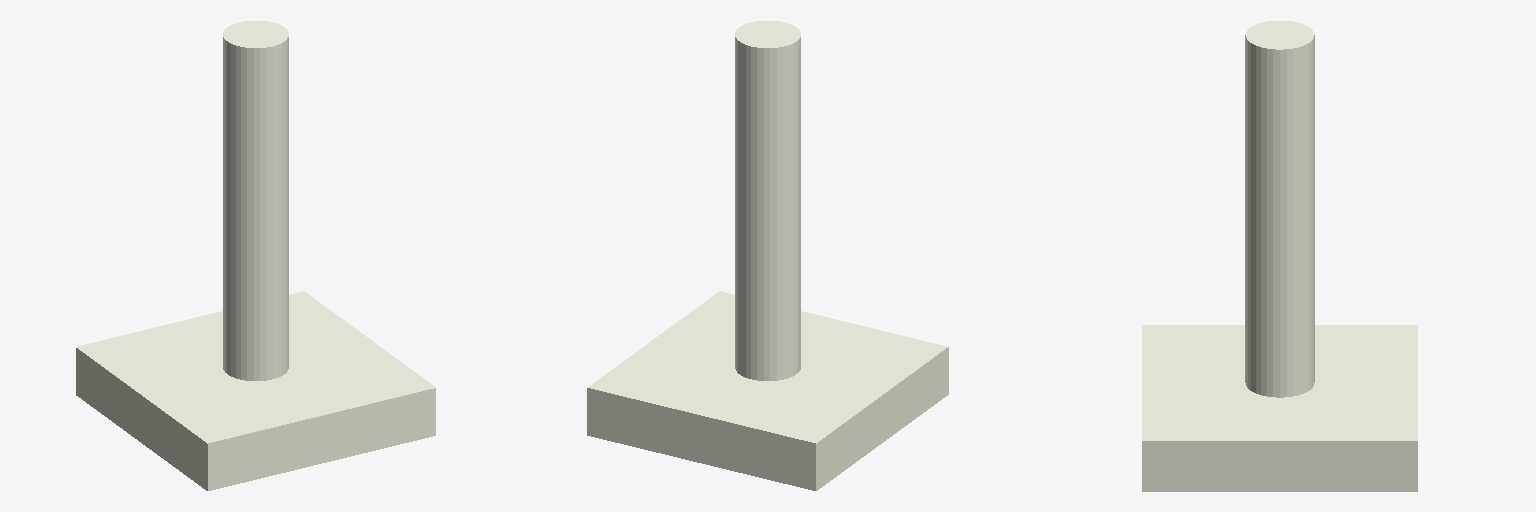
URDF robot description (table.urdf):
<?xml version="1.0" ?>
<robot name="table.urdf">
  <material name="Black">
    <color rgba="0.0 0.0 0.0 1.0"/>
  </material>
  <material name="Blue">
    <color rgba="0.0 0.0 0.8 1.0"/>
  </material>
  <material name="Green">
    <color rgba="0.0 0.8 0.0 1.0"/>
  </material>
  <material name="Grey">
    <color rgba="0.5 0.5 0.5 1.0"/>
  </material>
  <material name="Light_Grey">
    <color rgba="0.8 0.8 0.8 1.0"/>
  </material>
  <material name="Ivory">
    <color rgba="1.0 1.0 0.94 1.0"/>
  </material>
  <material name="Orange">
    <color rgba="1.0 0.423529411765 0.0392156862745 1.0"/>
  </material>
  <material name="Brown">
    <color rgba="0.870588235294 0.811764705882 0.764705882353 1.0"/>
  </material>
  <material name="Red">
    <color rgba="0.8 0.0 0.0 1.0"/>
  </material>
  <material name="White">
    <color rgba="1.0 1.0 1.0 1.0"/>
  </material>
  <link name="baseLink">
    <contact>
      <lateral_friction value="1.0"/>
    </contact>
    <inertial>
      <origin rpy="0 0 0" xyz="0 0 0"/>
       <mass value=".0"/>
       <inertia ixx="1" ixy="0" ixz="0" iyy="1" iyz="0" izz="1"/>
    </inertial>
    <visual>
      <origin rpy="0 0 0" xyz="0 0 0.6"/>
      <geometry>
				<mesh filename="table.obj" scale="1.5 1 0.05"/>
      </geometry>
       <material name="white">
        <color rgba="1 1 1 1"/>
      </material>
    </visual>
    <collision>
      <origin rpy="0 0 0" xyz="0 0 0.6"/>
      <geometry>
	 	<box size="1.5 1 0.05"/>
      </geometry>
    </collision>
	<visual>
      <origin rpy="0 0 0" xyz="-0.65 -0.4 0.29"/>
      <geometry>
	    <mesh filename="table.obj" scale="0.1 0.1 0.58"/>
      </geometry>
	  <material name="framemat0"/>	 
    </visual>
    <visual>
      <origin rpy="0 0 0" xyz="-0.65 0.4 0.29"/>
      <geometry>
        <mesh filename="table.obj" scale="0.1 0.1 0.58"/>
      </geometry>
	  <material name="framemat0"/>
	  </visual>
    <visual>
      <origin rpy="0 0 0" xyz="0.65 -0.4 0.29"/>
      <geometry>
        <mesh filename="table.obj" scale="0.1 0.1 0.58"/>
      </geometry>
	  <material name="framemat0"/>
	  </visual>
    <visual>
      <origin rpy="0 0 0" xyz="0.65 0.4 0.29"/>
      <geometry>
        <mesh filename="table.obj" scale="0.1 0.1 0.58"/>
      </geometry>
    </visual>
  </link>
  <joint name="table2peg" type="fixed">
    <parent link="baseLink"/>
    <child link="peg"/>
    <origin rpy="0 0 3.1415" xyz="0.3 -0.1 0.635"/> 
  </joint>
  <link concave="yes" name="peg">
    <visual>
      <origin rpy="0 0 0" xyz="0 0 0"/>
      <geometry>
        <mesh filename="simple_peg.obj" scale="1.0 1.0 1.0"/>
      </geometry>
      <material name="Ivory"/>
    </visual>
    <collision>
      <origin rpy="0 0 0" xyz="0 0 0"/>
      <geometry>
        <mesh filename="simple_peg.obj" scale="1.0 1.0 1.0"/>
      </geometry>
    </collision>
    <contact>
      <lateral_friction value="0.2"/>
    </contact>
  </link>
</robot>

--- Render facts (derived) ---
Views: 3 orthographic renders of the robot side by side, from view 1: azimuth 30°, elevation 25°; view 2: azimuth 150°, elevation 25°; view 3: azimuth 270°, elevation 25°.
Robot: table.urdf — 2 links, 1 joints (1 fixed); root link baseLink; default pose: all joints at 0.
Links seen in each view (by area): view 1: peg; view 2: peg; view 3: peg.
Link boxes in pixels (bbox=[...]): peg: bbox=[76, 20, 435, 490]; peg: bbox=[587, 20, 948, 490]; peg: bbox=[1142, 21, 1417, 491].
Bounding box of the posed robot: 0.2 × 0.2 × 0.318 m (x, y, z).
Meshes: 2 distinct files referenced, 1 mesh visuals loaded (1 OBJ); not drawn: 5 (reference not matched to a file when rendering).